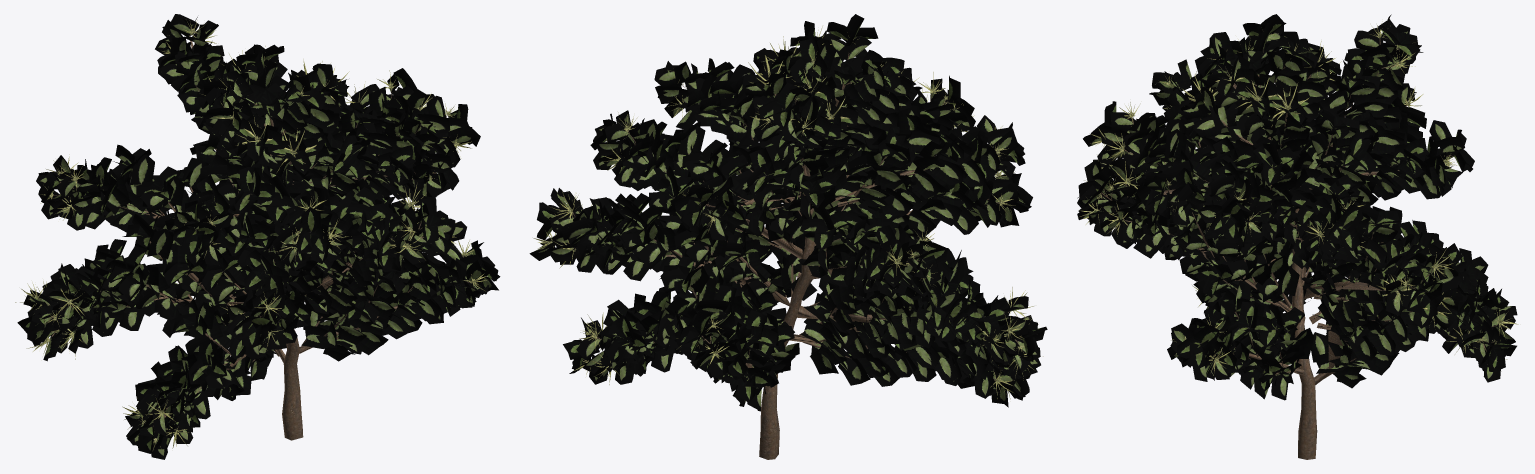
The model's file is chestnut_hero.fbx.
The picture shows the model from 3 angles, left to right: view 1: azimuth 30°, elevation 25°; view 2: azimuth 150°, elevation 25°; view 3: azimuth 270°, elevation 25°; orthographic projection. The views are drawn at different scales.
Visible parts, largest first — view 1: EU43Leaf1, EU43Leaf2, EU43Stalk1, EU43Bark4, EU43stp2; view 2: EU43Leaf1, EU43Leaf2, EU43Bark4, EU43Stalk1; view 3: EU43Leaf1, EU43Leaf2, EU43Bark4, EU43Stalk1, EU43stp2.
Boxes of the visible parts, x1,y1,x2,y2 form: EU43Leaf1: (23, 14, 498, 459); EU43Leaf2: (17, 17, 500, 453); EU43Stalk1: (15, 20, 486, 449); EU43Bark4: (48, 36, 440, 440); EU43stp2: (34, 29, 476, 443); EU43Leaf1: (529, 14, 1040, 411); EU43Leaf2: (537, 22, 1047, 402); EU43Bark4: (623, 52, 1021, 459); EU43Stalk1: (533, 26, 1043, 399); EU43Leaf1: (1077, 14, 1517, 400); EU43Leaf2: (1077, 14, 1516, 392); EU43Bark4: (1101, 50, 1450, 459); EU43Stalk1: (1078, 21, 1518, 375); EU43stp2: (1093, 32, 1503, 362).
Bounding box in the file's own units: 493 × 446 × 442.
Materials: 6 (6 with a texture image).
